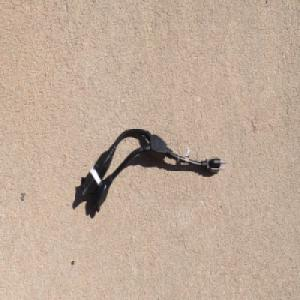Wire: (78, 126, 229, 215)
